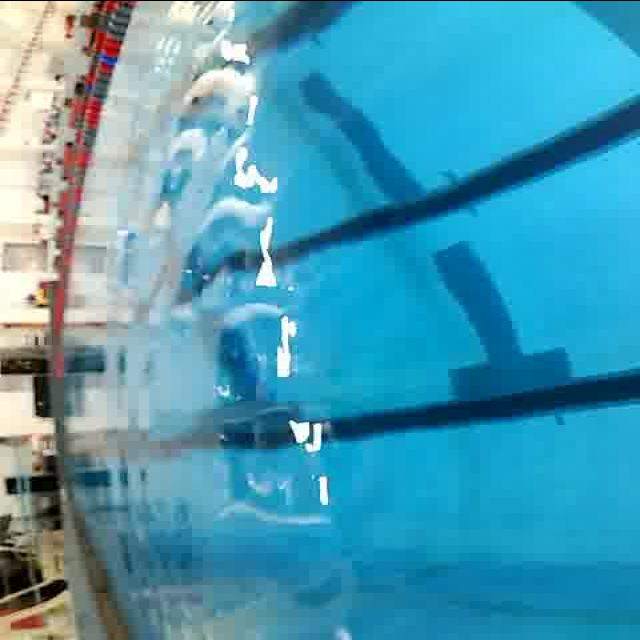Bottle: (96, 214, 144, 304)
